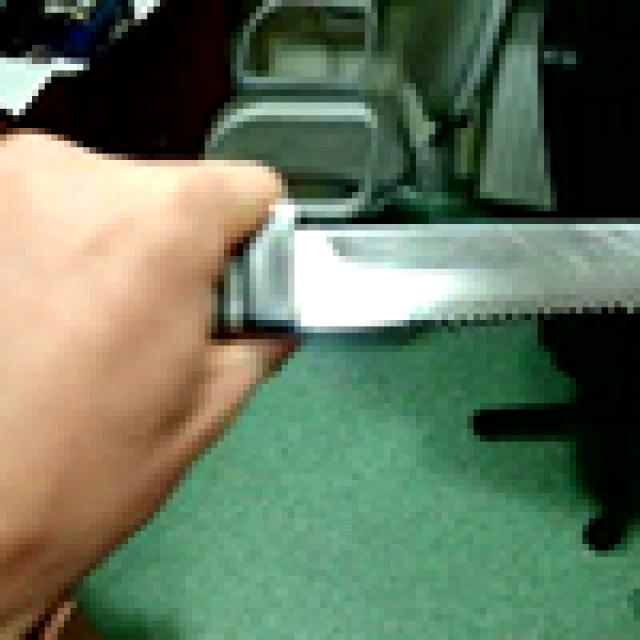Knife: (179, 154, 640, 403)
